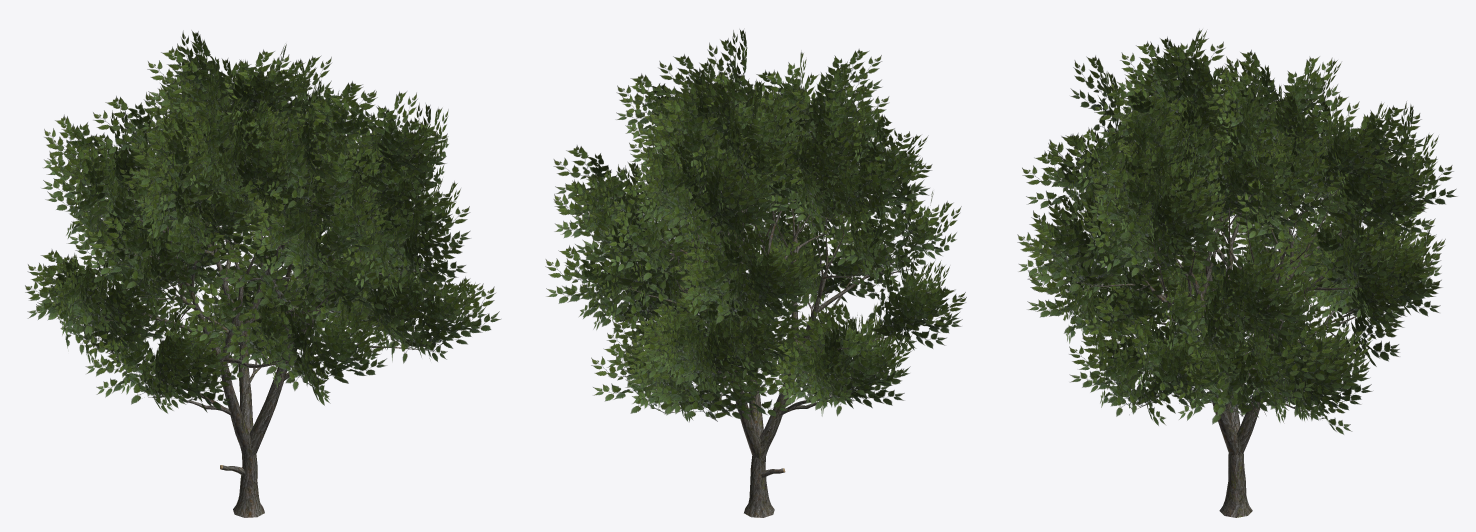
File: pohon-elm.glb
3 views of the same model, side by side, from view 1: azimuth 30°, elevation 25°; view 2: azimuth 150°, elevation 25°; view 3: azimuth 270°, elevation 25° (orthographic). The views are drawn at different scales.
Visible parts, largest first — view 1: tree, Plane.453, Plane.303, Plane.495, Plane.302, Plane.050, Plane.095, Plane.517, Plane.489, Plane.173, Plane.141, Plane.476 (+97 smaller); view 2: tree, Plane.490, Plane.295, Plane.426, Plane.335, Plane.041, Plane.294, Plane.236, Plane.371, Plane.472, Plane.473, Plane.396 (+100 smaller); view 3: tree, Plane.221, Plane.343, Plane.291, Plane.076, Plane.040, Plane.282, Plane.189, Plane.167, Plane.161, Plane.051, Plane.042 (+108 smaller).
Boxes of the visible parts, box(x1,y1,x2,y2) form: tree: box(89, 171, 438, 517); Plane.453: box(185, 282, 268, 353); Plane.303: box(87, 215, 170, 289); Plane.495: box(128, 127, 212, 204); Plane.302: box(151, 229, 239, 292); Plane.050: box(224, 231, 305, 309); Plane.095: box(308, 199, 391, 264); Plane.517: box(304, 328, 388, 383); Plane.489: box(41, 142, 120, 225); Plane.173: box(375, 119, 440, 177); Plane.141: box(302, 144, 384, 214); Plane.476: box(315, 258, 398, 314); tree: box(614, 164, 916, 517); Plane.490: box(868, 197, 944, 267); Plane.295: box(603, 212, 680, 280); Plane.426: box(710, 364, 795, 421); Plane.335: box(683, 257, 744, 323); Plane.041: box(545, 245, 622, 317); Plane.294: box(574, 209, 645, 288); Plane.236: box(591, 343, 673, 413); Plane.371: box(649, 97, 717, 166); Plane.472: box(832, 342, 911, 396); Plane.473: box(775, 345, 851, 410); Plane.396: box(847, 155, 924, 214); tree: box(1064, 147, 1377, 517); Plane.221: box(1087, 165, 1162, 244); Plane.343: box(1017, 217, 1097, 287); Plane.291: box(1280, 219, 1367, 288); Plane.076: box(1117, 41, 1182, 114); Plane.040: box(1260, 322, 1337, 390); Plane.282: box(1230, 342, 1317, 407); Plane.189: box(1236, 174, 1319, 233); Plane.167: box(1276, 56, 1340, 135); Plane.161: box(1210, 114, 1292, 173); Plane.051: box(1236, 178, 1316, 249); Plane.042: box(1328, 171, 1402, 224).
Bounding box in the file's own units: 22.95 × 22.31 × 20.17.
3 materials, 3 textured.
